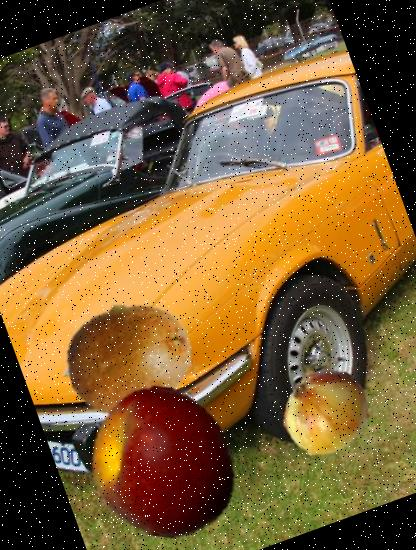Kiwi: (47, 276, 210, 440)
Nectarine: (69, 366, 261, 550)
Onion: (267, 354, 382, 469)
